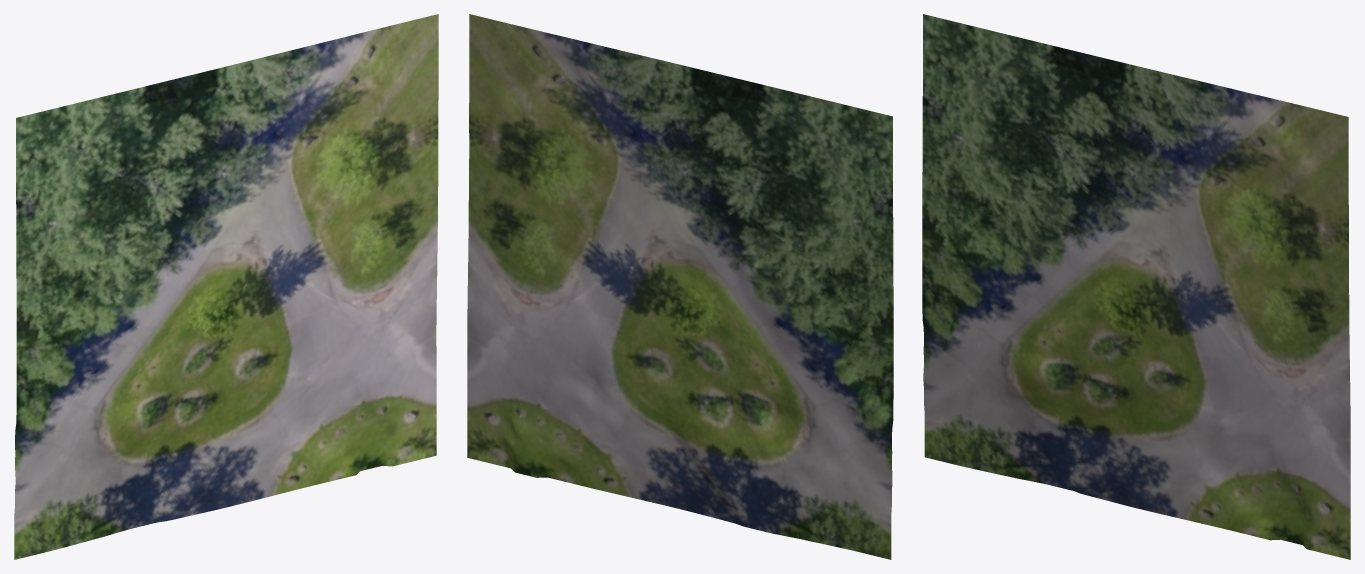
The model's file is odm_textured_model.obj.
The picture shows the model from 3 angles, left to right: view 1: azimuth 30°, elevation 25°; view 2: azimuth 150°, elevation 25°; view 3: azimuth 330°, elevation 25°; orthographic projection.
Bounding box in the file's own units: 34.43 × 34.43 × 1.14.
Materials: 1 (1 with a texture image).
